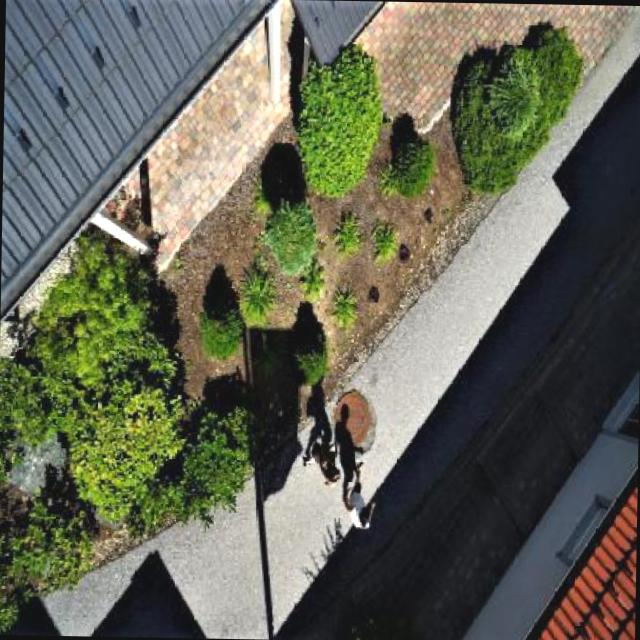Person: (346, 457, 396, 538), (312, 422, 352, 496)
